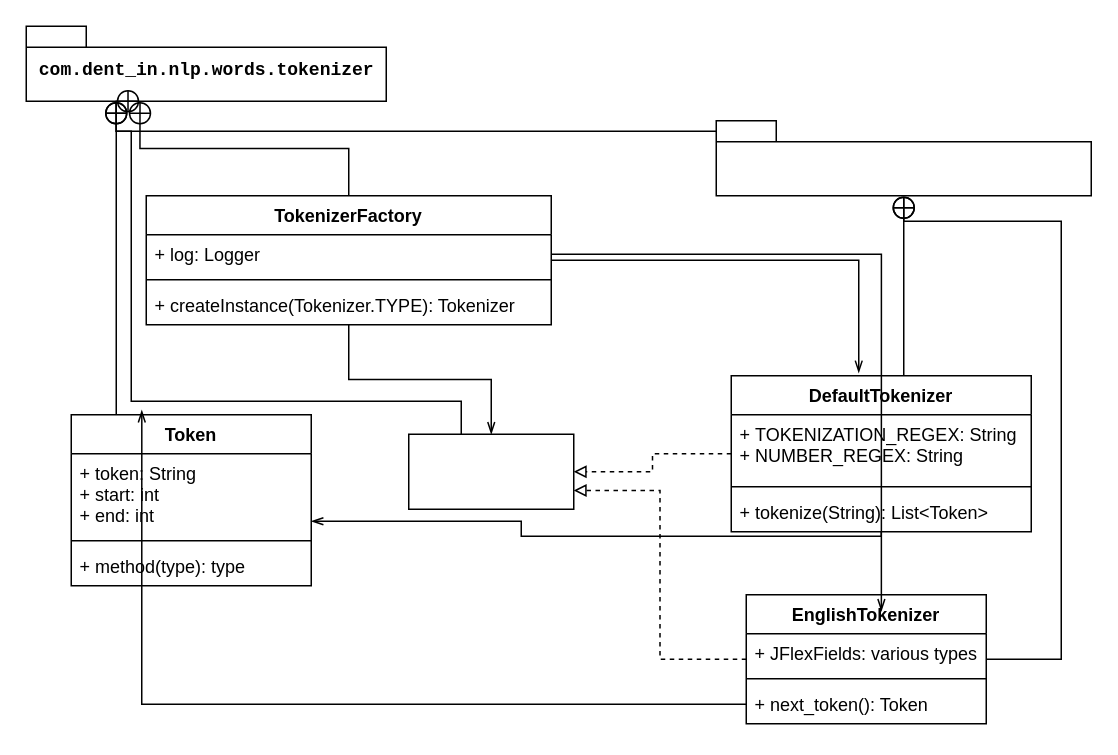
This 1118x755 diagram has some shape labels left out. Here are the shapes that lost their labels. From the top down, the centre of each, then its label:
At (x=903, y=157): "com.dent_in.nlp.words .tokenizer.impl".
At (x=490, y=471): "«interface» Tokenizer".
